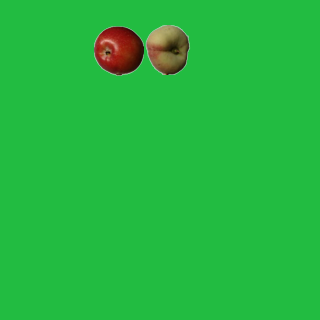Apple Braeburn: (93, 25, 143, 75)
Peach Flat: (142, 24, 192, 74)
